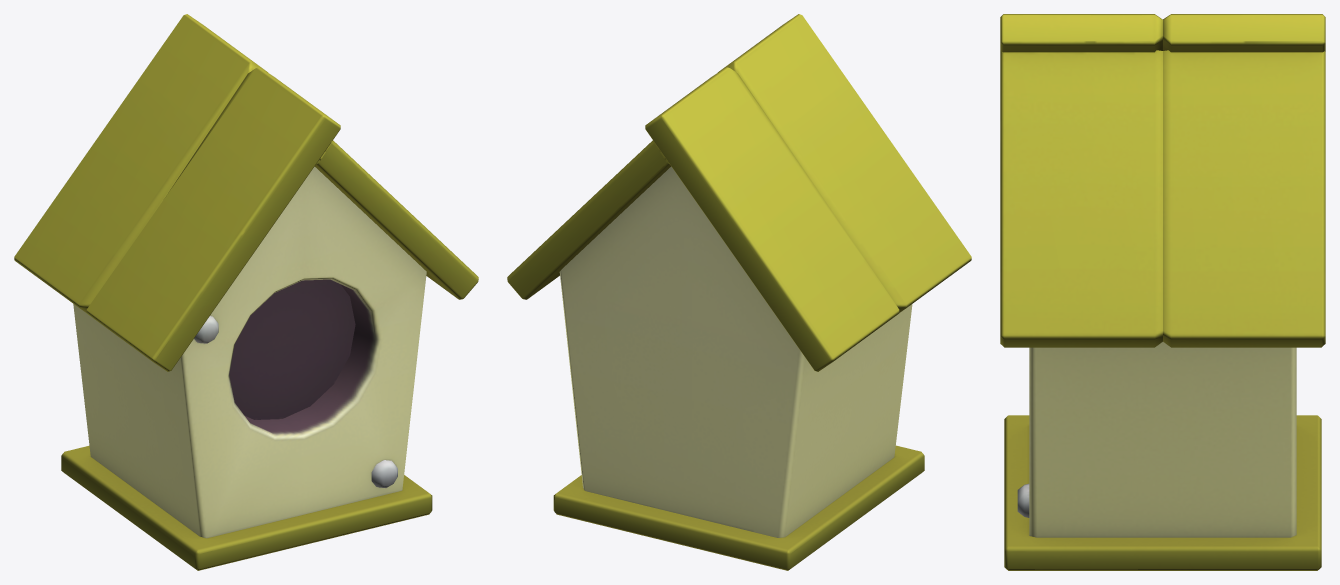
File: BirdHouse.fbx
The picture shows the model from 3 angles, left to right: view 1: azimuth 30°, elevation 25°; view 2: azimuth 150°, elevation 25°; view 3: azimuth 270°, elevation 25°; orthographic projection. The views are drawn at different scales.
Visible parts, largest first — view 1: BirdHouse; view 2: BirdHouse; view 3: BirdHouse.
Part boxes in pixels (box(x1,y1,x2,y2)): BirdHouse: box(14, 14, 478, 570); BirdHouse: box(507, 14, 971, 570); BirdHouse: box(1000, 14, 1325, 570).
Size of the model in its own units: 52.68 by 65.75 by 39.19.
1 material, 1 textured.
